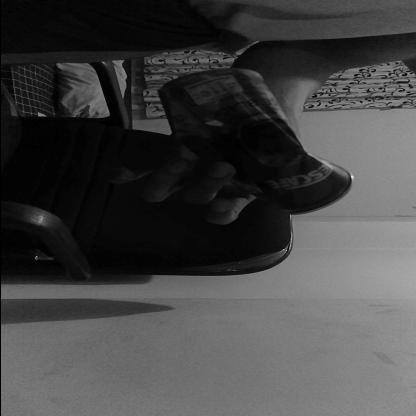alumunium_can: (154, 70, 352, 218)
